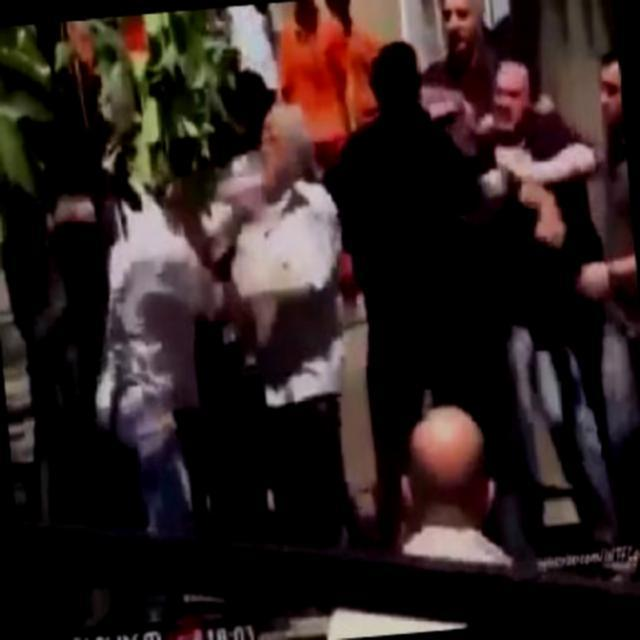fight: (77, 103, 356, 412), (423, 57, 605, 291)
